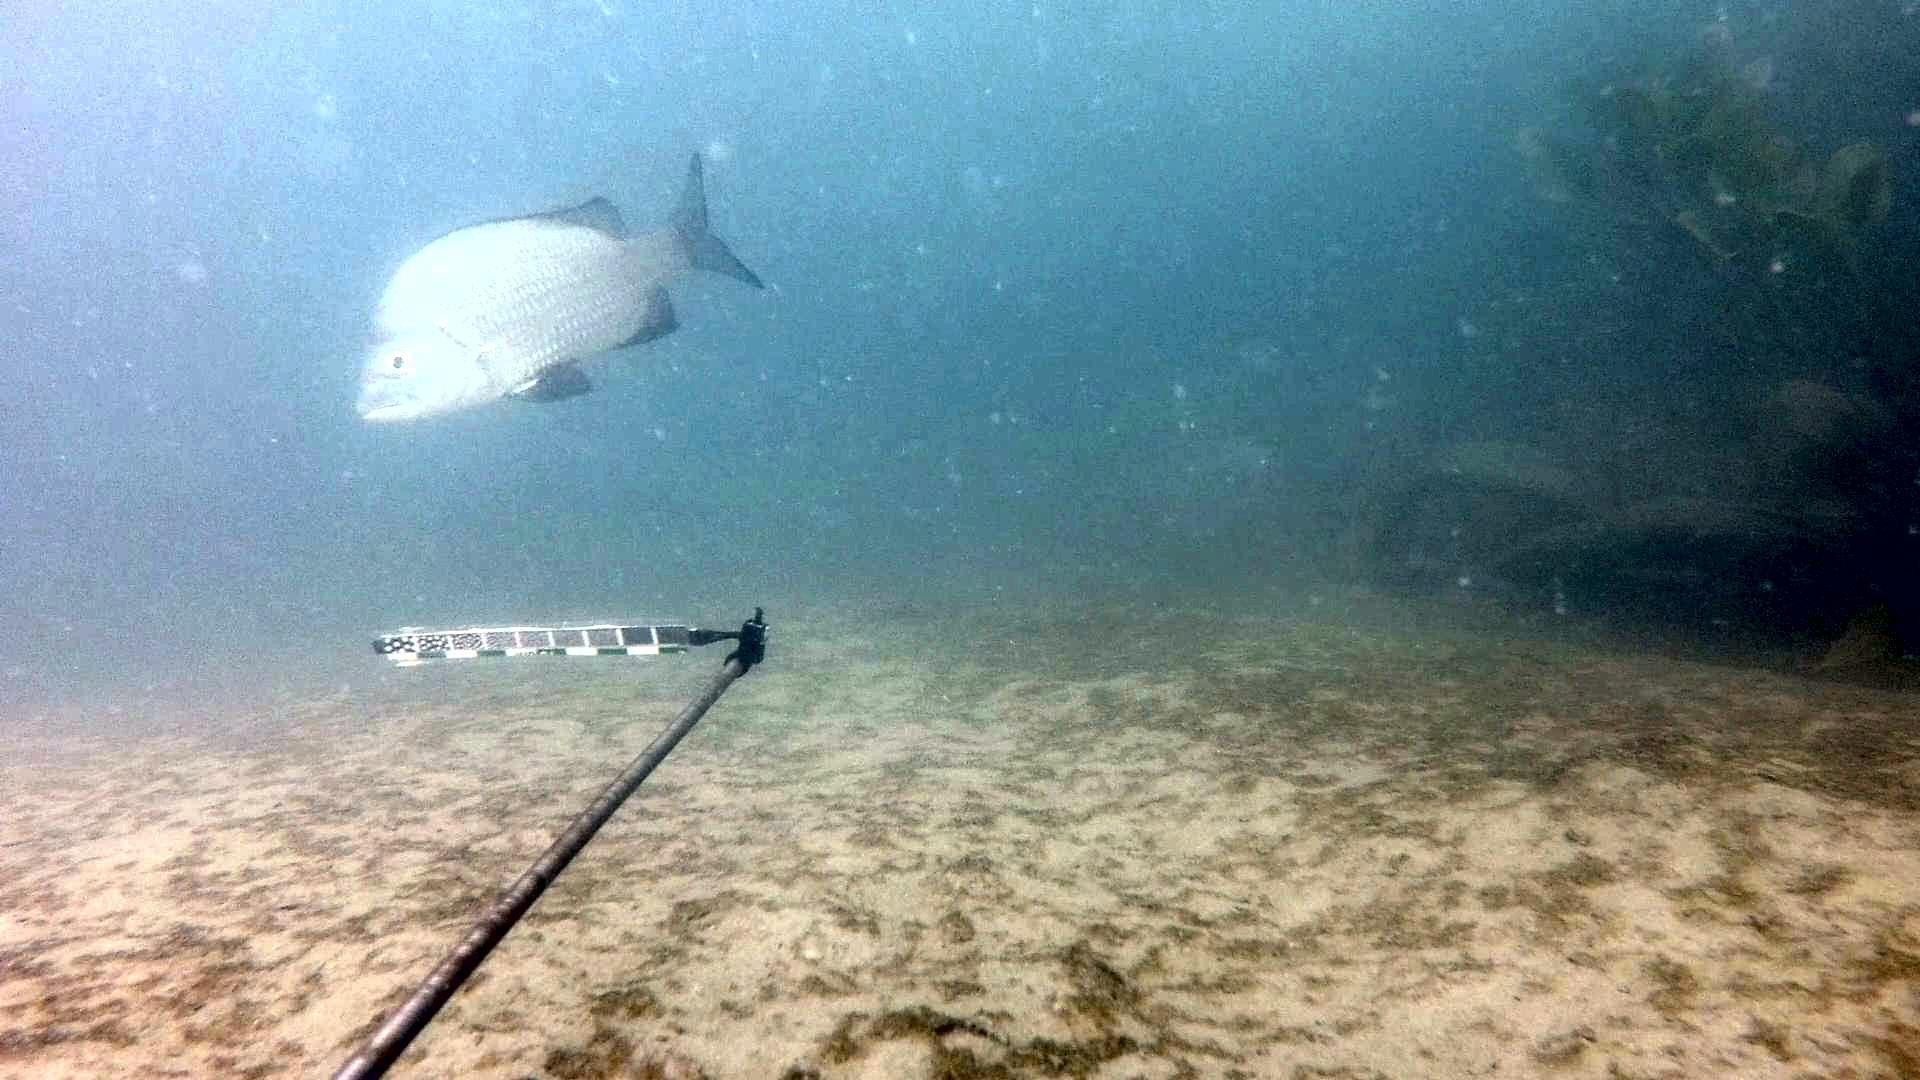acanthopagrus palmaris: (333, 140, 783, 436)
